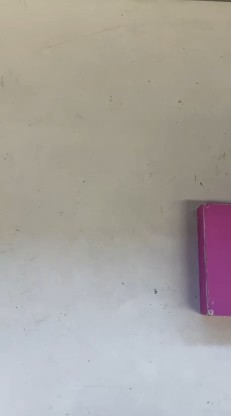pink: (193, 199, 229, 312)
